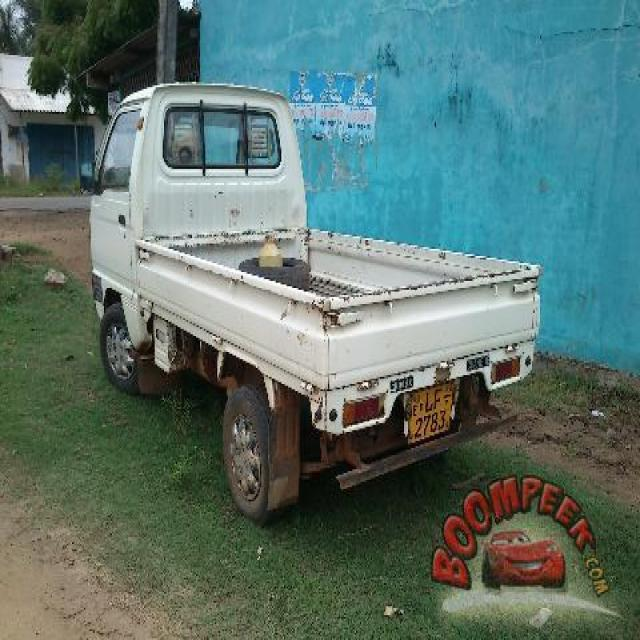license-plate: (409, 384, 456, 441)
